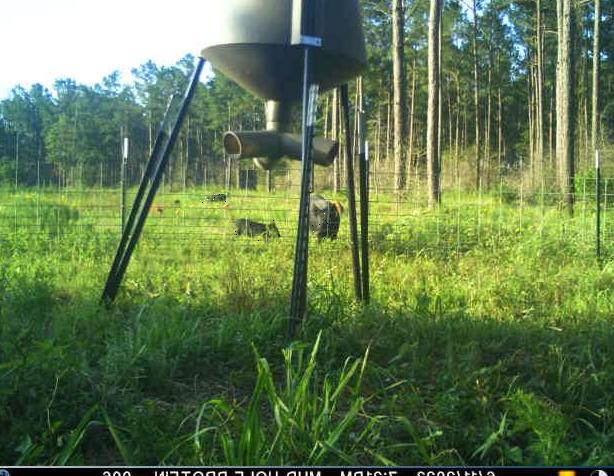Hog: (226, 215, 280, 244), (309, 192, 339, 243), (199, 191, 228, 205)
